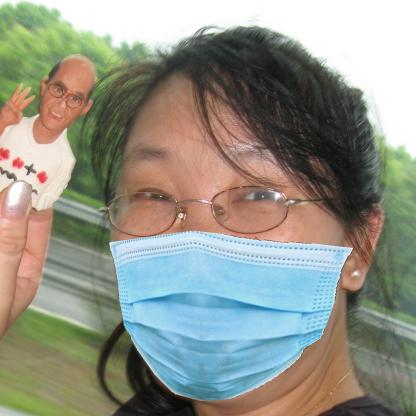Correctly_Masked: (108, 126, 352, 402)
